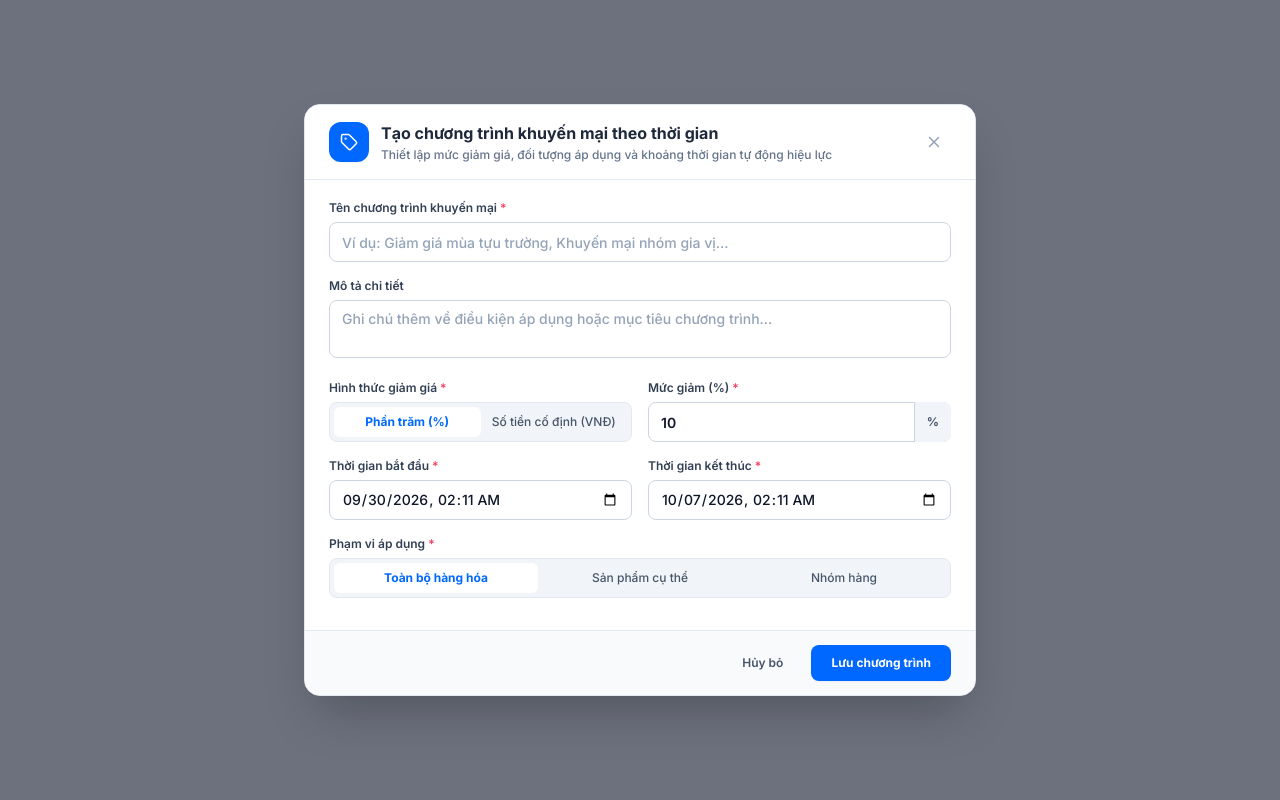
Scenario: PromotionFormModal Redesign › switches scope to product and displays product search input
The image size is (1280, 800).
Click the button "Sản phẩm cụ thể": (640, 578) 538,563 -> 742,593
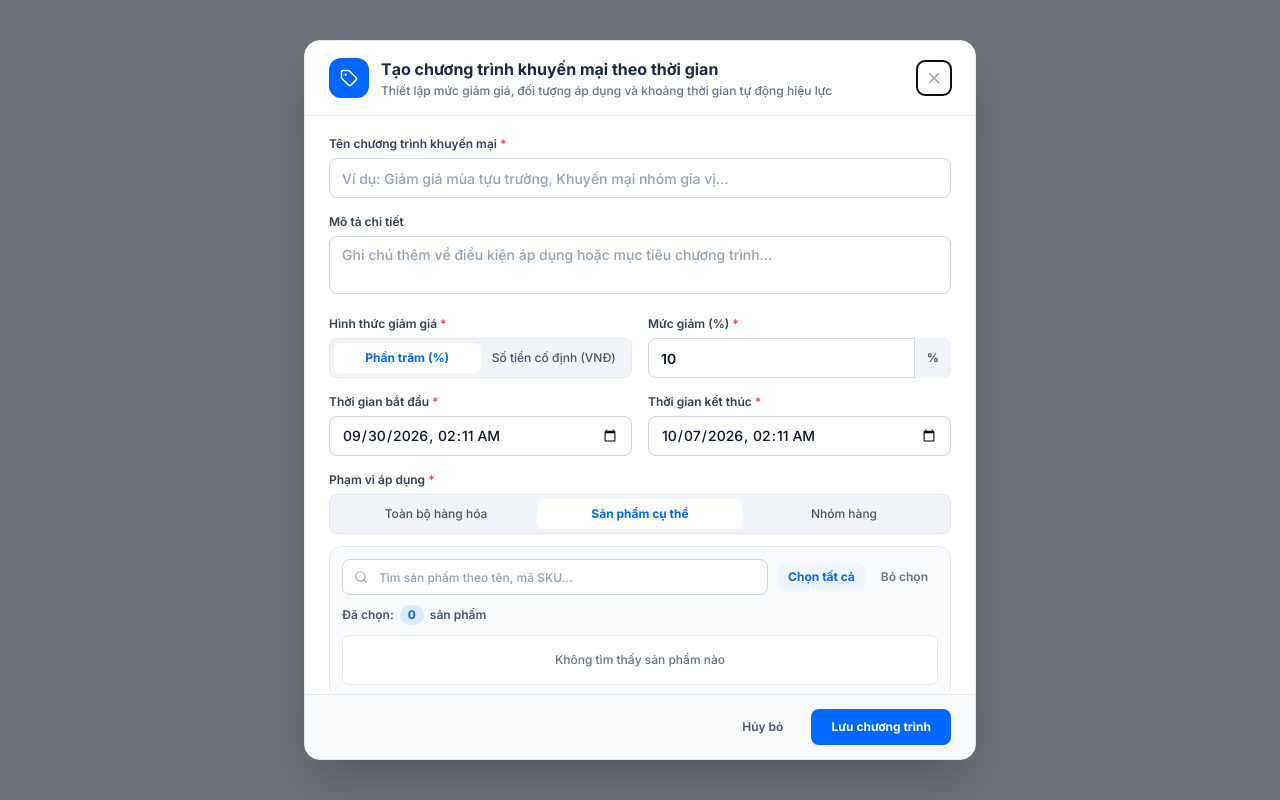
Result: the field with placeholder "Tìm sản phẩm theo tên, mã SKU..." is shown at 342,559 -> 768,595
Result: the button "Chọn tất cả" is shown at 778,563 -> 865,591
Result: the button "Bỏ chọn" is shown at 871,563 -> 938,591
